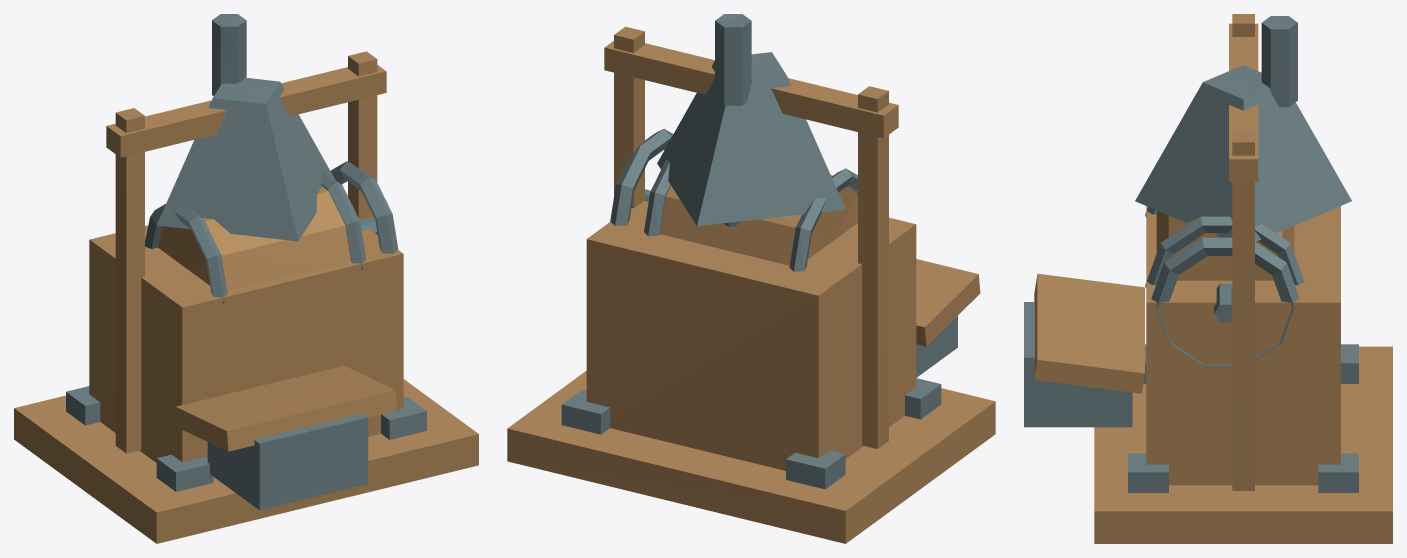
Rendered from Spice-Mill.glb.
The picture shows the model from 3 angles, left to right: view 1: azimuth 30°, elevation 25°; view 2: azimuth 150°, elevation 25°; view 3: azimuth 270°, elevation 25°; orthographic projection. The views are drawn at different scales.
Parts seen in each view (by area): view 1: wind-pump-static-spice-mill-grounded-base, wind-pump-static-spice-mill-dark-iron, wind-pump-static-spice-mill-timber-frame, wind-pump-static-spice-mill-fine-mesh-tray, wind-pump-static-spice-mill-galvanized-panels, wind-pump-static-spice-mill-teal-burr-housing; view 2: wind-pump-static-spice-mill-grounded-base, wind-pump-static-spice-mill-dark-iron, wind-pump-static-spice-mill-timber-frame, wind-pump-static-spice-mill-teal-burr-housing, wind-pump-static-spice-mill-fine-mesh-tray, wind-pump-static-spice-mill-galvanized-panels; view 3: wind-pump-static-spice-mill-grounded-base, wind-pump-static-spice-mill-dark-iron, wind-pump-static-spice-mill-fine-mesh-tray, wind-pump-static-spice-mill-timber-frame, wind-pump-static-spice-mill-galvanized-panels, wind-pump-static-spice-mill-teal-burr-housing.
Part boxes in pixels (bbox=[...]): wind-pump-static-spice-mill-grounded-base: bbox=[14, 225, 478, 543]; wind-pump-static-spice-mill-dark-iron: bbox=[66, 14, 426, 491]; wind-pump-static-spice-mill-timber-frame: bbox=[106, 51, 386, 453]; wind-pump-static-spice-mill-fine-mesh-tray: bbox=[175, 365, 396, 451]; wind-pump-static-spice-mill-galvanized-panels: bbox=[207, 413, 368, 510]; wind-pump-static-spice-mill-teal-burr-housing: bbox=[158, 186, 350, 291]; wind-pump-static-spice-mill-grounded-base: bbox=[507, 201, 995, 543]; wind-pump-static-spice-mill-dark-iron: bbox=[561, 14, 941, 489]; wind-pump-static-spice-mill-timber-frame: bbox=[604, 26, 898, 448]; wind-pump-static-spice-mill-teal-burr-housing: bbox=[659, 175, 857, 265]; wind-pump-static-spice-mill-fine-mesh-tray: bbox=[916, 259, 980, 346]; wind-pump-static-spice-mill-galvanized-panels: bbox=[916, 316, 957, 377]; wind-pump-static-spice-mill-grounded-base: bbox=[1094, 206, 1392, 543]; wind-pump-static-spice-mill-dark-iron: bbox=[1128, 16, 1358, 492]; wind-pump-static-spice-mill-fine-mesh-tray: bbox=[1034, 273, 1144, 393]; wind-pump-static-spice-mill-timber-frame: bbox=[1229, 14, 1258, 490]; wind-pump-static-spice-mill-galvanized-panels: bbox=[1024, 302, 1132, 427]; wind-pump-static-spice-mill-teal-burr-housing: bbox=[1156, 211, 1294, 280].
Size of the model in its own units: 1.72 by 2.14 by 1.63.
